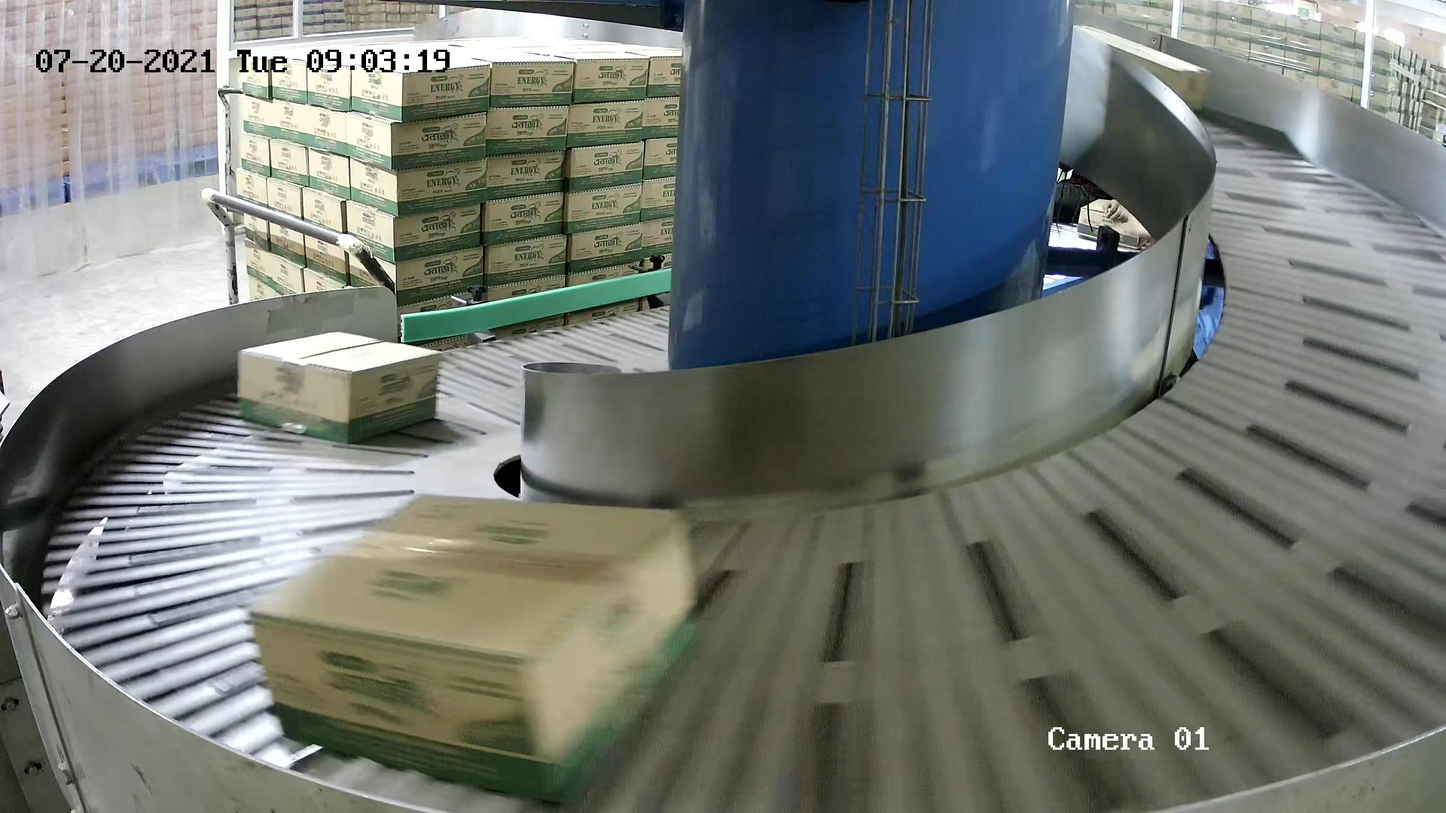Box: (243, 491, 704, 812), (237, 329, 443, 445)
